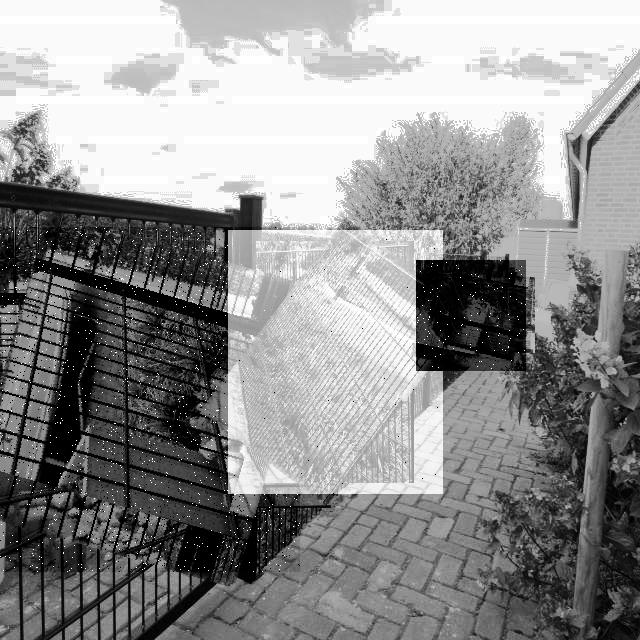fences: (0, 227, 300, 572), (228, 230, 443, 494), (416, 260, 526, 371)
